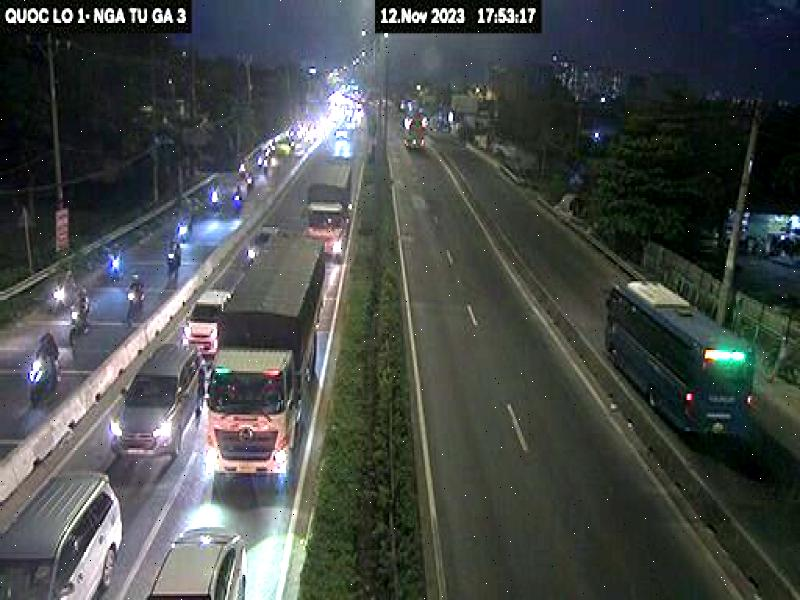bus: (603, 276, 754, 448)
truck: (202, 229, 328, 486), (302, 160, 356, 263)
